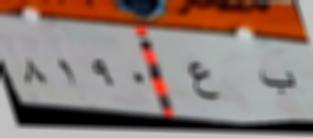0: (126, 64, 152, 93)
1: (55, 55, 80, 89)
8: (21, 53, 50, 95)
9: (89, 55, 117, 88)
ain: (182, 56, 222, 105)
baa: (256, 63, 297, 97)
